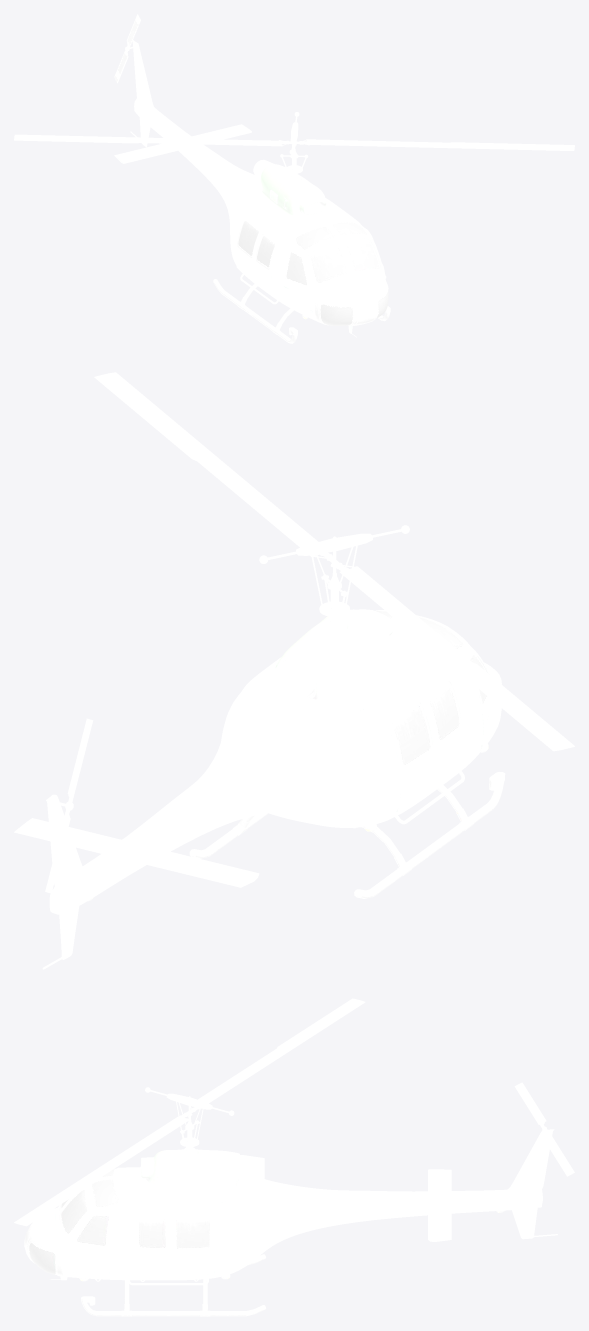
The model's file is Heli.glb.
3 views of the same model, one above another, from view 1: azimuth 30°, elevation 25°; view 2: azimuth 150°, elevation 25°; view 3: azimuth 270°, elevation 25° (orthographic). The views are drawn at different scales.
Visible parts, largest first — view 1: Body; view 2: Body; view 3: Body.
Part boxes in pixels (x1,y1,x2,y2): Body: [14, 14, 574, 343]; Body: [14, 372, 574, 969]; Body: [14, 998, 574, 1316].
Size of the model in its own units: 12.29 by 5.13 by 12.8.
1 material, 1 textured.
